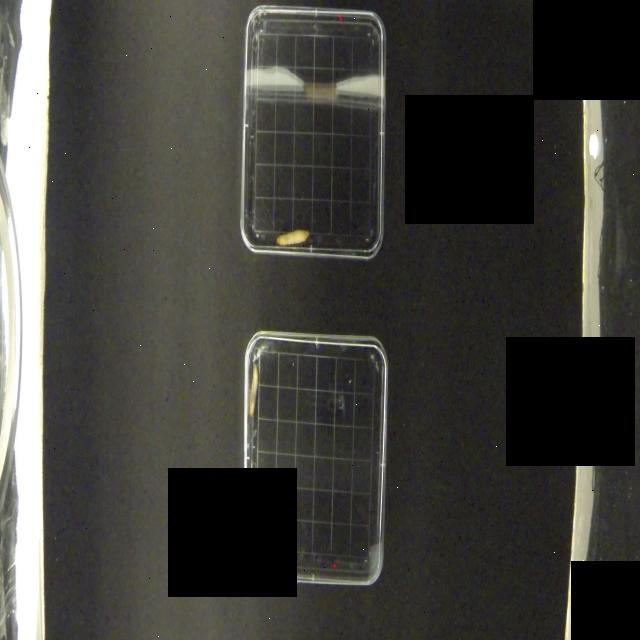larva: (248, 364, 260, 422), (276, 228, 310, 246)
